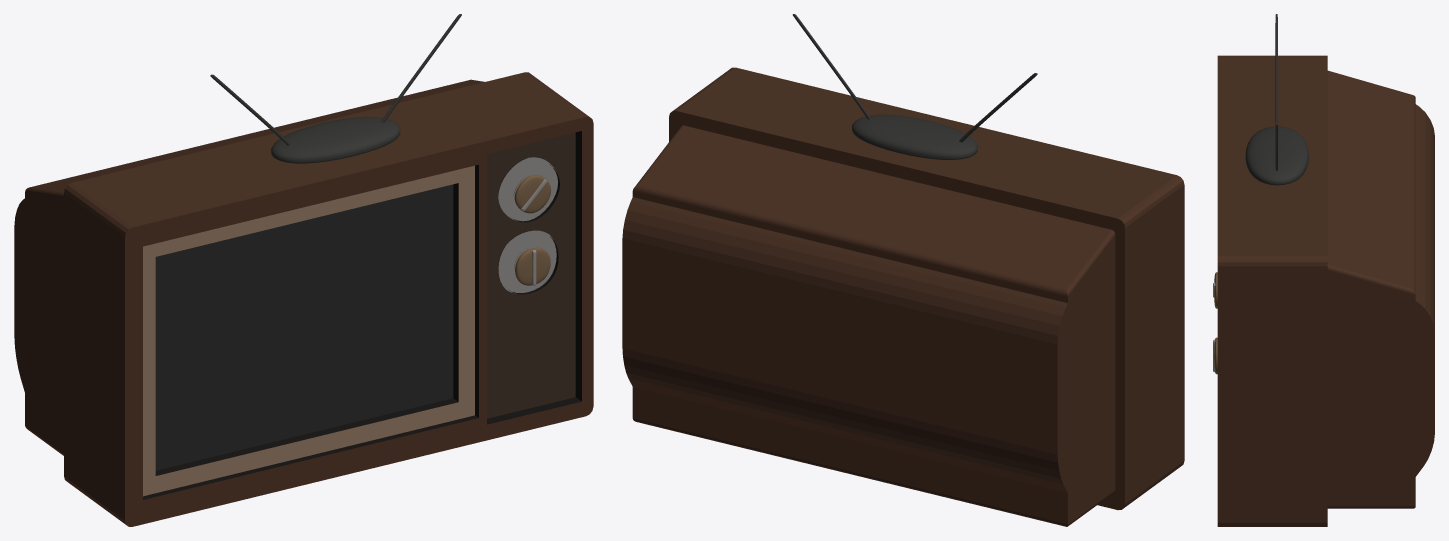
Rendered from kennedy.glb.
The picture shows the model from 3 angles, left to right: view 1: azimuth 30°, elevation 25°; view 2: azimuth 150°, elevation 25°; view 3: azimuth 270°, elevation 25°; orthographic projection. The views are drawn at different scales.
Parts seen in each view (by area): view 1: Tele base 1, Plane.002, Antena, Plane; view 2: Tele base 1, Antena, Plane; view 3: Tele base 1, Antena, Plane, Plane.002.
Part boxes in pixels (x1=…): Tele base 1: x1=14, y1=72, x2=593, y2=526; Plane.002: x1=498, y1=157, x2=559, y2=294; Antena: x1=271, y1=117, x2=400, y2=163; Plane: x1=210, y1=14, x2=461, y2=145; Tele base 1: x1=622, y1=67, x2=1184, y2=526; Antena: x1=852, y1=114, x2=977, y2=159; Plane: x1=792, y1=14, x2=1037, y2=142; Tele base 1: x1=1217, y1=55, x2=1434, y2=526; Antena: x1=1245, y1=126, x2=1308, y2=185; Plane: x1=1275, y1=14, x2=1277, y2=170; Plane.002: x1=1213, y1=272, x2=1217, y2=374.
Bounding box in the file's own units: 0.8647 × 0.7069 × 0.3929.
